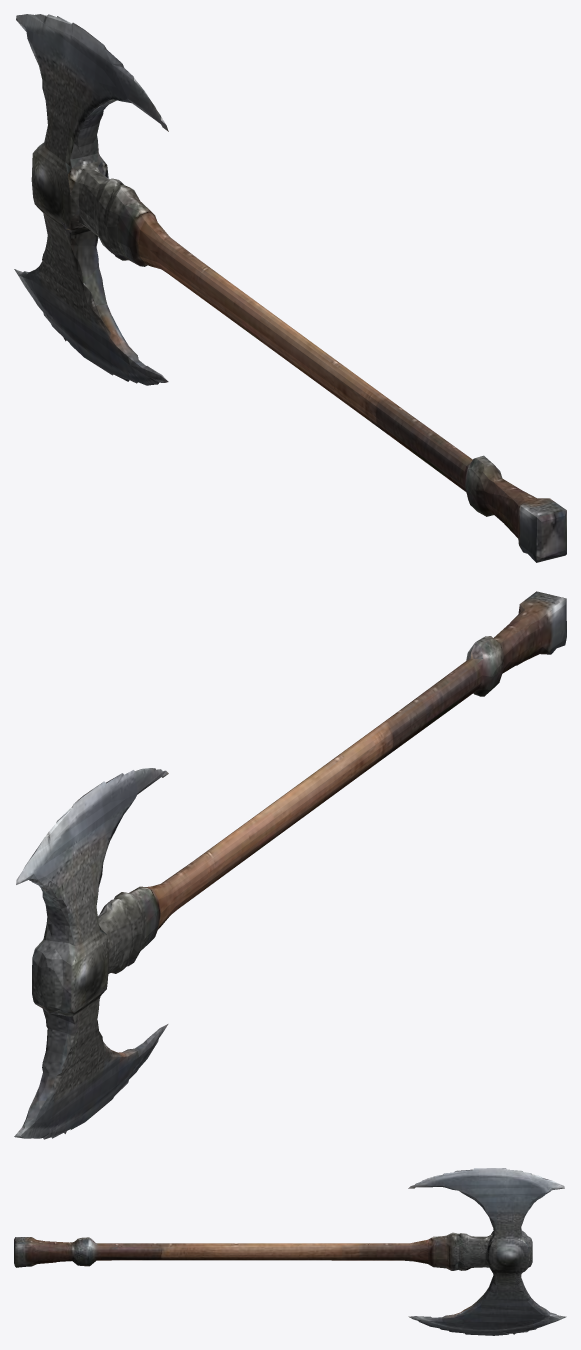
Rendered from axe_long_handle_lod0.glb.
3 renders of one model, top to bottom at view 1: azimuth 30°, elevation 25°; view 2: azimuth 150°, elevation 25°; view 3: azimuth 270°, elevation 25°, orthographic. The views are drawn at different scales.
Visible parts, largest first — view 1: axe_long_handle_lod0; view 2: axe_long_handle_lod0; view 3: axe_long_handle_lod0.
Boxes of the visible parts, x1,y1,x2,y2 form: axe_long_handle_lod0: [14, 14, 566, 562]; axe_long_handle_lod0: [14, 591, 566, 1139]; axe_long_handle_lod0: [14, 1168, 566, 1335].
Bounding box in the file's own units: 0.0675 × 0.4999 × 1.49.
1 material, 1 textured.
